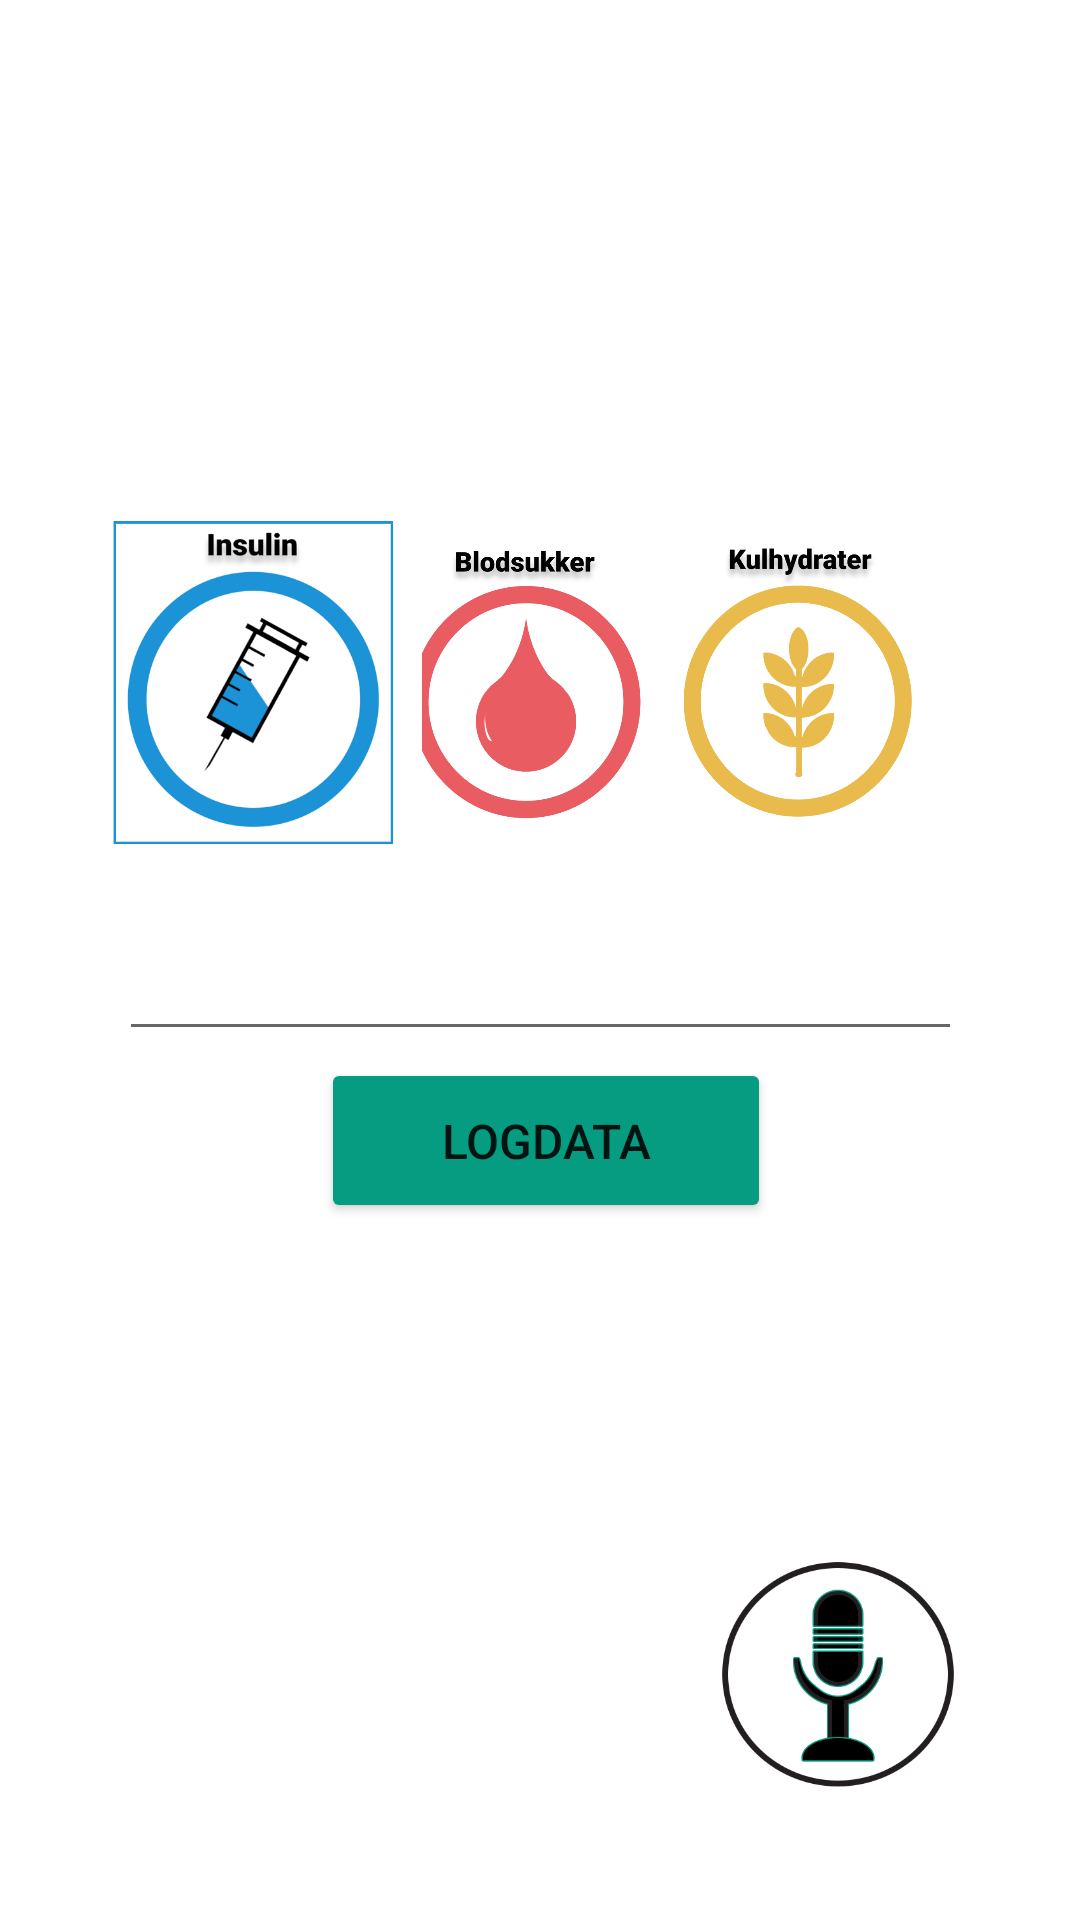

Where icons sit on this 1080x1920 app screen, as (left=x1, top=y1, right=x2, bottom=y2):
mikrofonny: (left=722, top=1562, right=954, bottom=1787)
